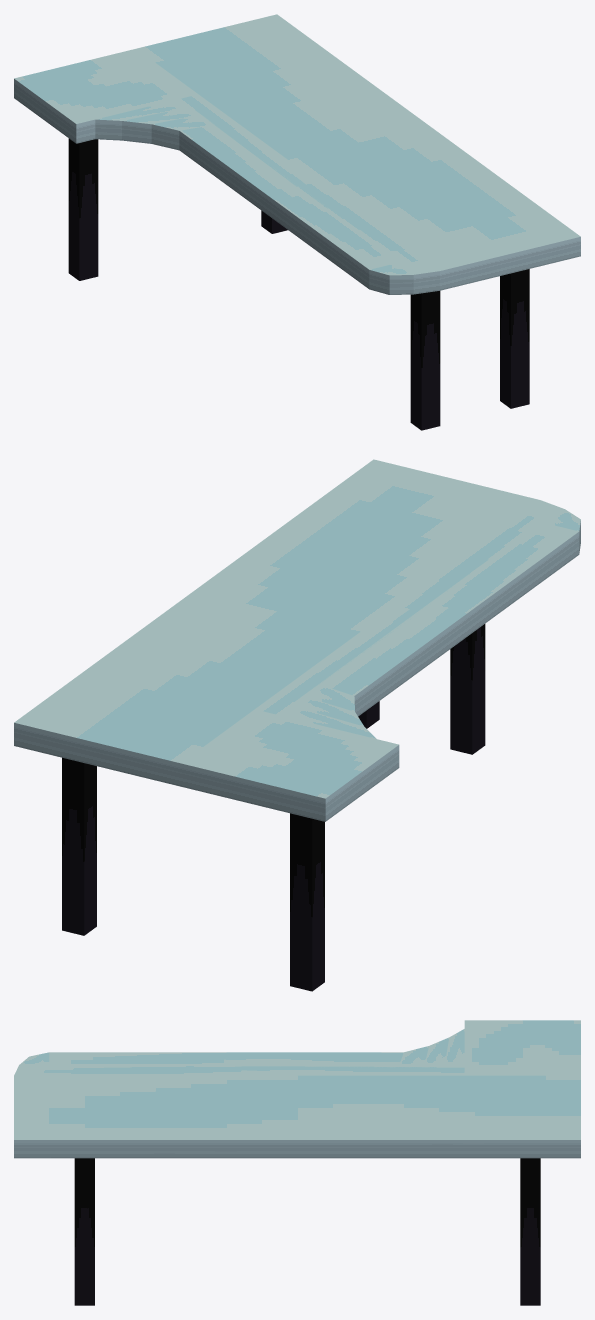
File: table.gltf
3 renders of one model, top to bottom at view 1: azimuth 30°, elevation 25°; view 2: azimuth 150°, elevation 25°; view 3: azimuth 270°, elevation 25°, orthographic. The views are drawn at different scales.
Parts seen in each view (by area): view 1: table; view 2: table; view 3: table.
Boxes of the visible parts, box(x1,y1,x2,y2) form: table: box(14, 14, 580, 430); table: box(14, 459, 580, 991); table: box(14, 1020, 580, 1305).
Bounding box in the file's own units: 14 × 9.5 × 28.
Materials: 1 (1 with a texture image).
